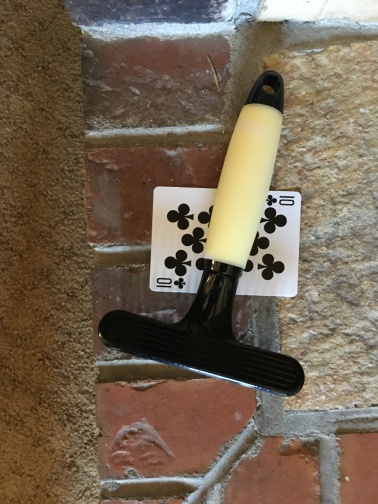ten: (148, 186, 301, 298)
